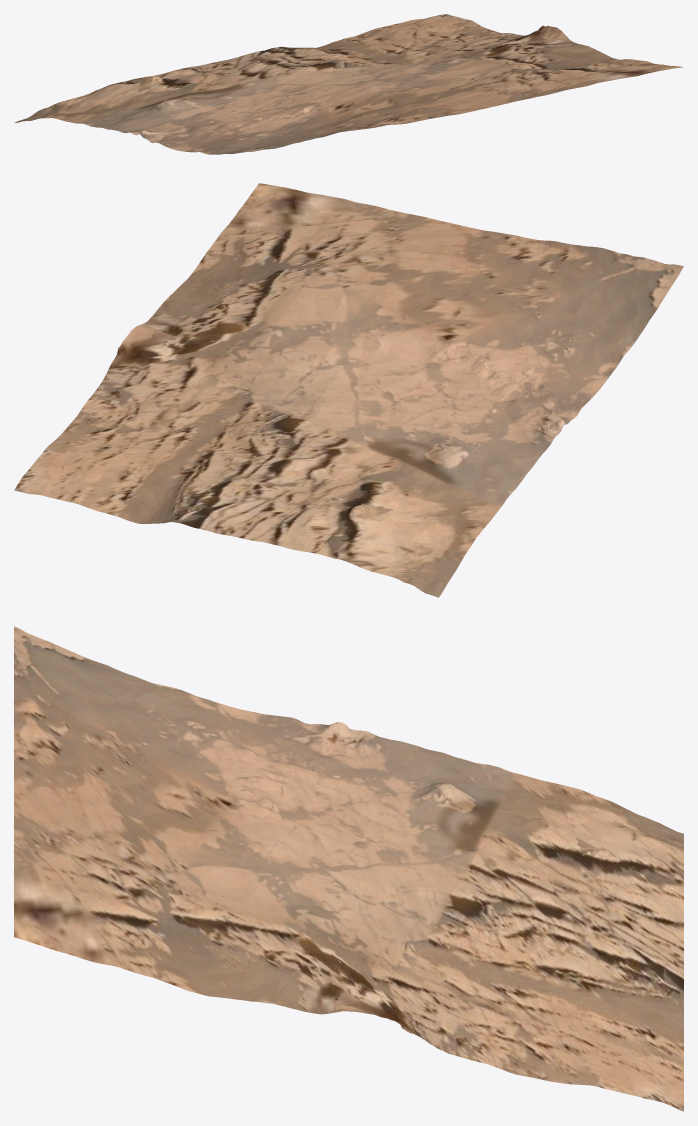
The picture shows the model from 3 angles, top to bottom: view 1: azimuth 30°, elevation 25°; view 2: azimuth 150°, elevation 25°; view 3: azimuth 270°, elevation 25°; orthographic projection. The views are drawn at different scales.
Bounding box in the file's own units: 1.04 × 0.3572 × 1.04.
Materials: 2 (2 with a texture image).
